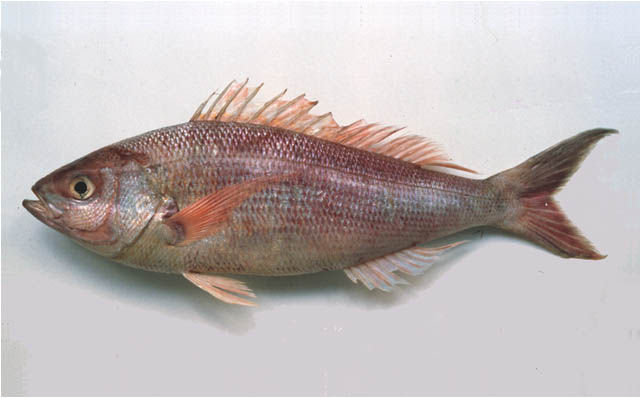fish: (21, 77, 623, 307)
